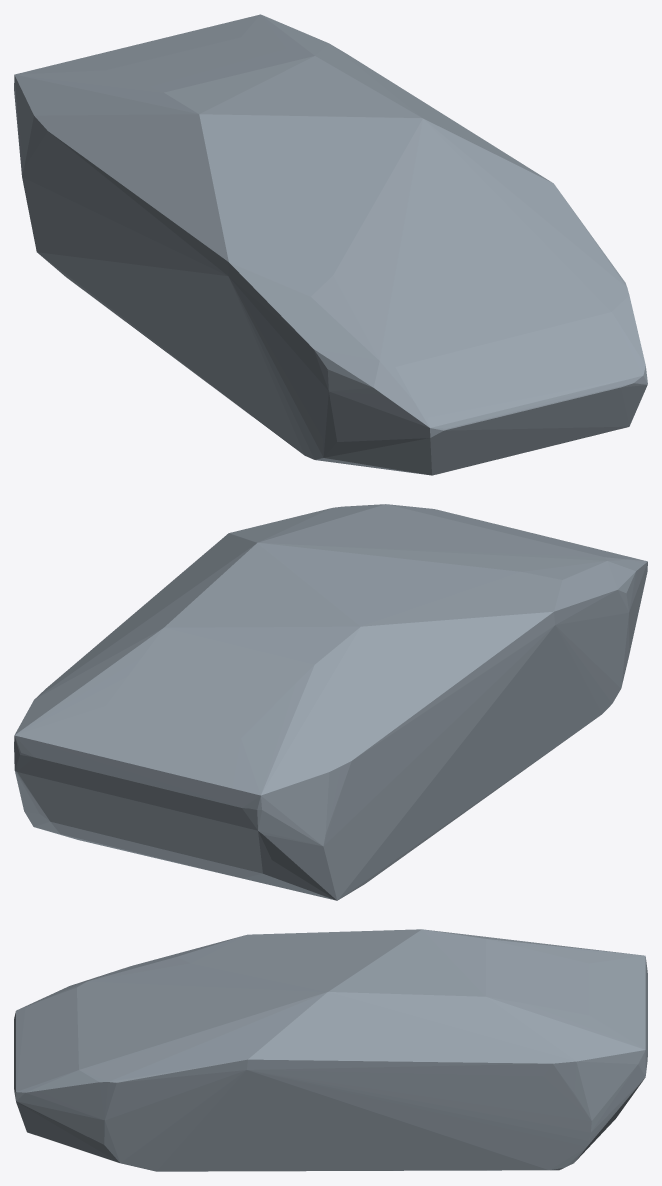
File: wedge-collision.glb
3 renders of one model, top to bottom at view 1: azimuth 30°, elevation 25°; view 2: azimuth 150°, elevation 25°; view 3: azimuth 270°, elevation 25°, orthographic. The views are drawn at different scales.
Parts seen in each view (by area): view 1: wedge_collision; view 2: wedge_collision; view 3: wedge_collision.
Boxes of the visible parts, bbox=[...] form: wedge_collision: bbox=[14, 14, 647, 475]; wedge_collision: bbox=[14, 504, 647, 900]; wedge_collision: bbox=[14, 929, 647, 1171].
Bounding box in the file's own units: 2.05 × 1.2 × 4.4.
